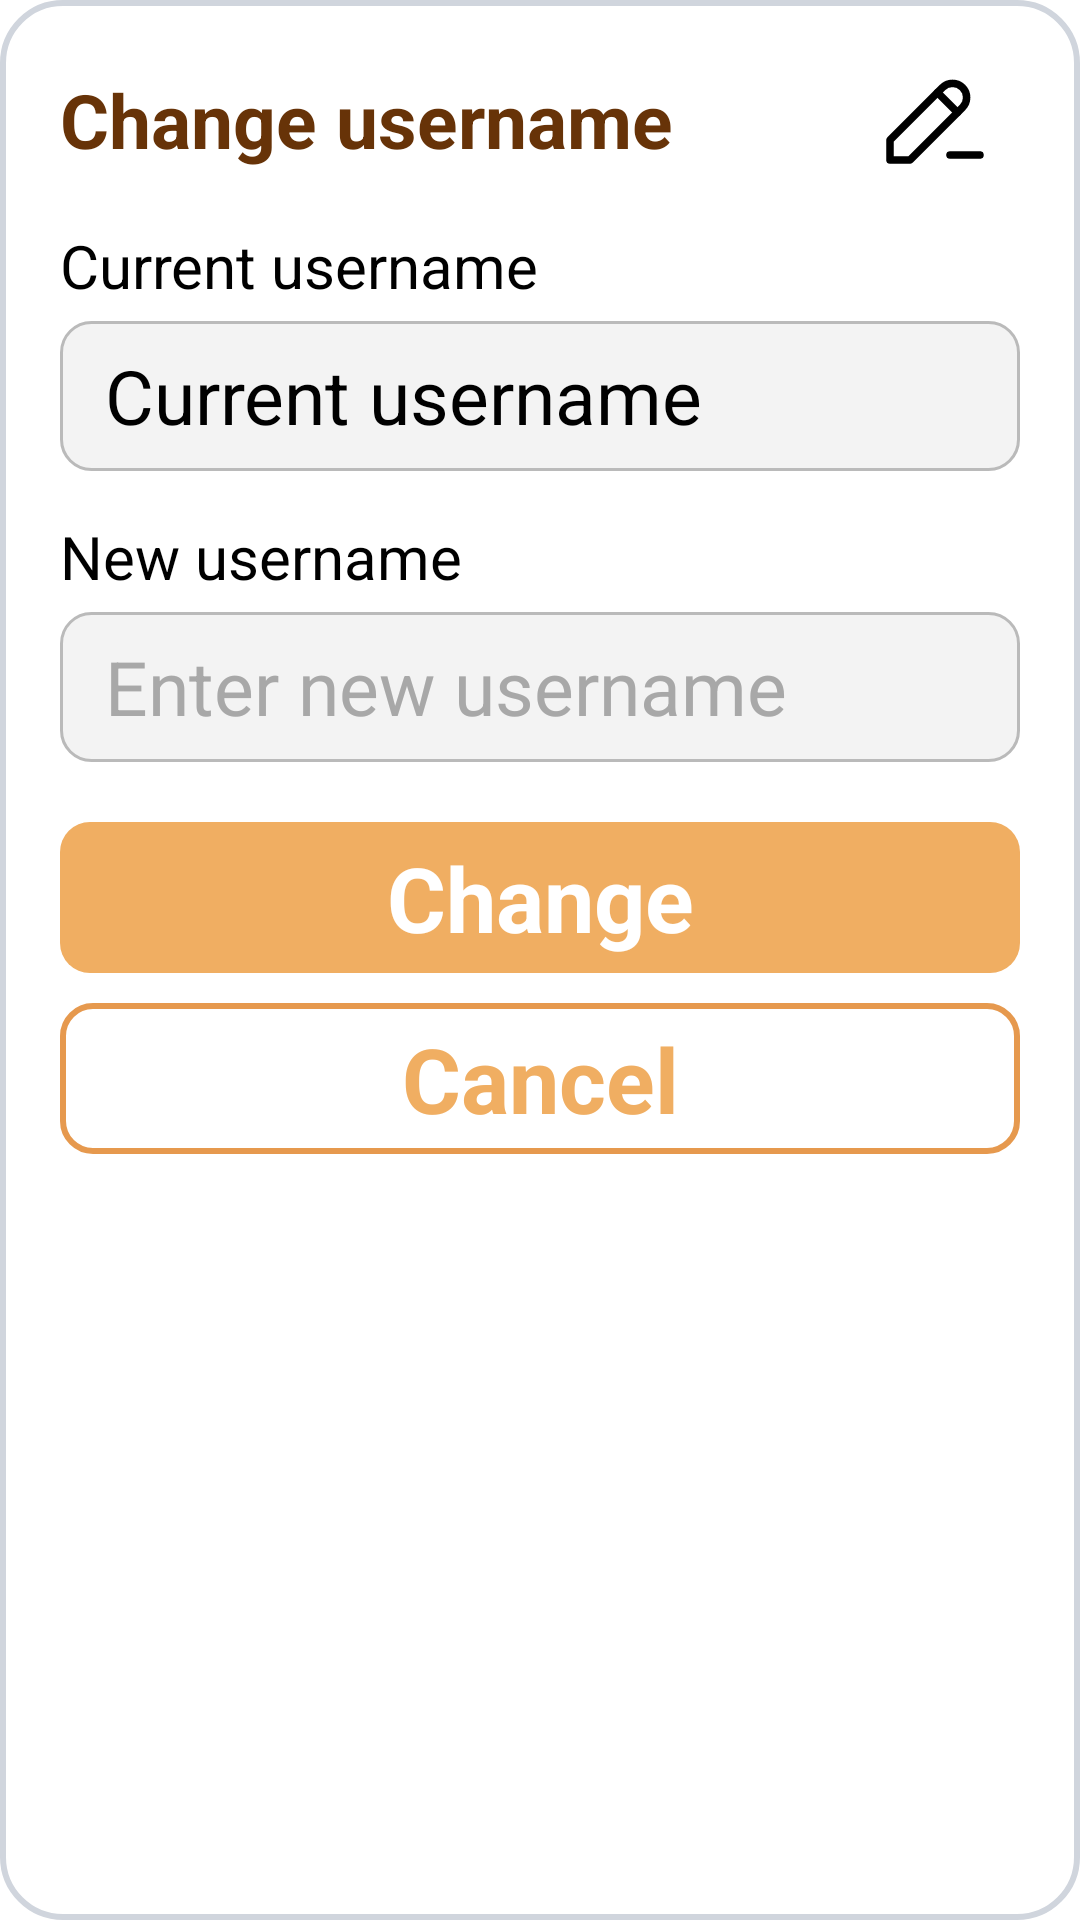

Screen size 1080×1920. Icon name, then its center in pixels as (x,y):
pencil: (935,121)
